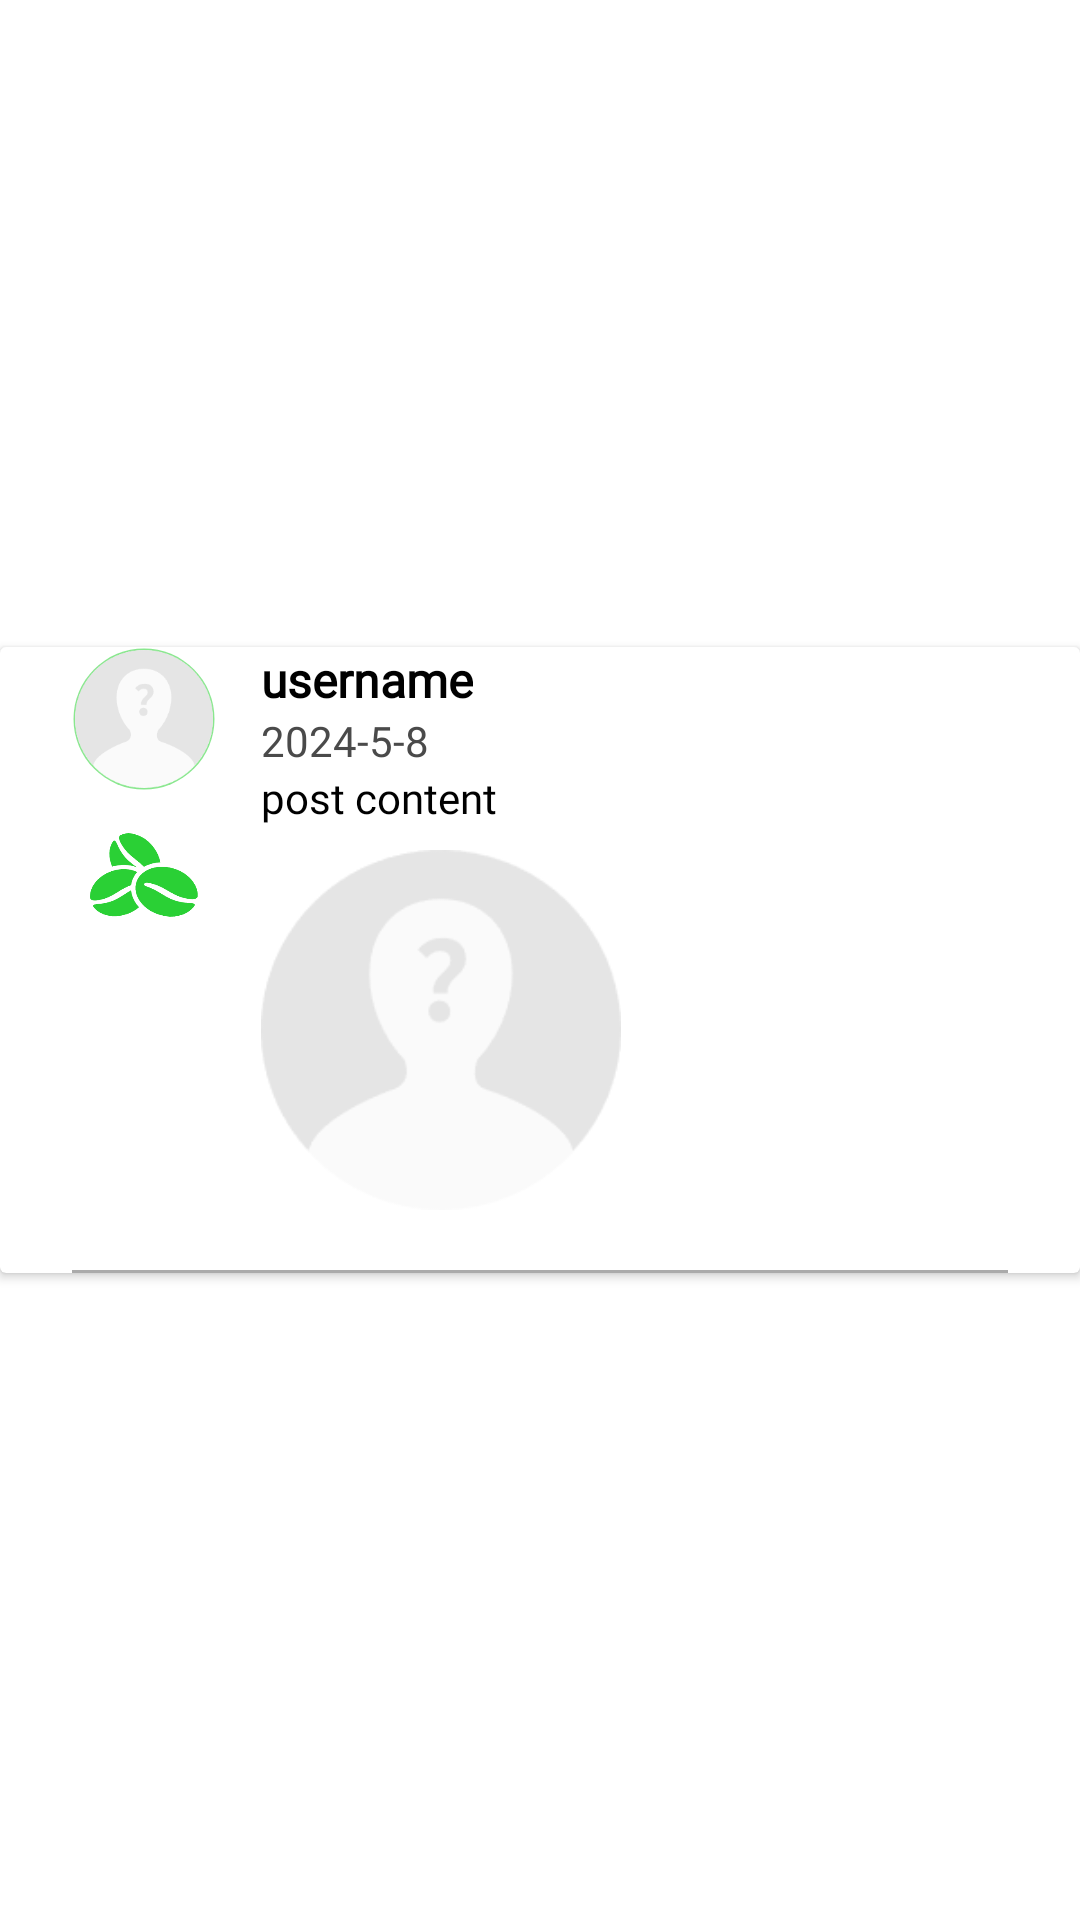

Icon bounding boxes for this 1080px×1920px phone screenshot, format (x1, y1, x2, y2):
seed: (90, 833, 198, 917)
unknown user: (73, 648, 215, 790), (261, 850, 621, 1148)
